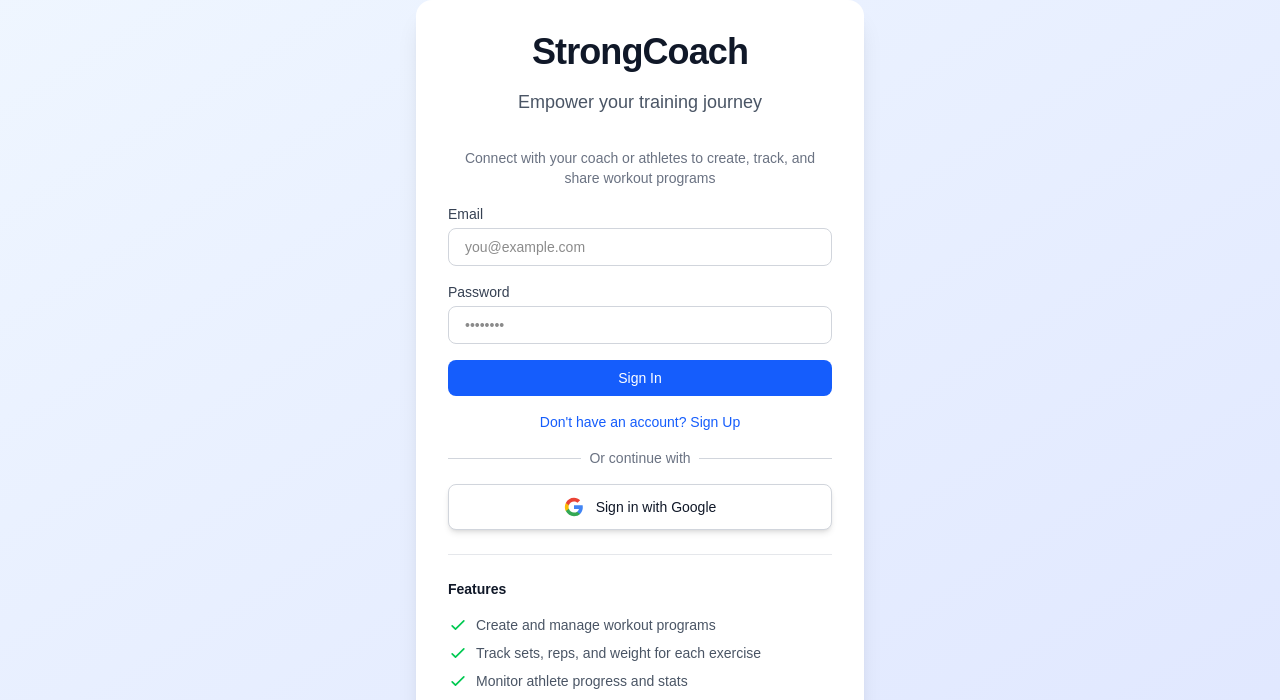
it: Authentication Flow › Authentication Error Handling › should handle network errors gracefully
Type "test@example.com" into the field labelled "Email" at coordinates (640, 247), box [448,228,832,266]
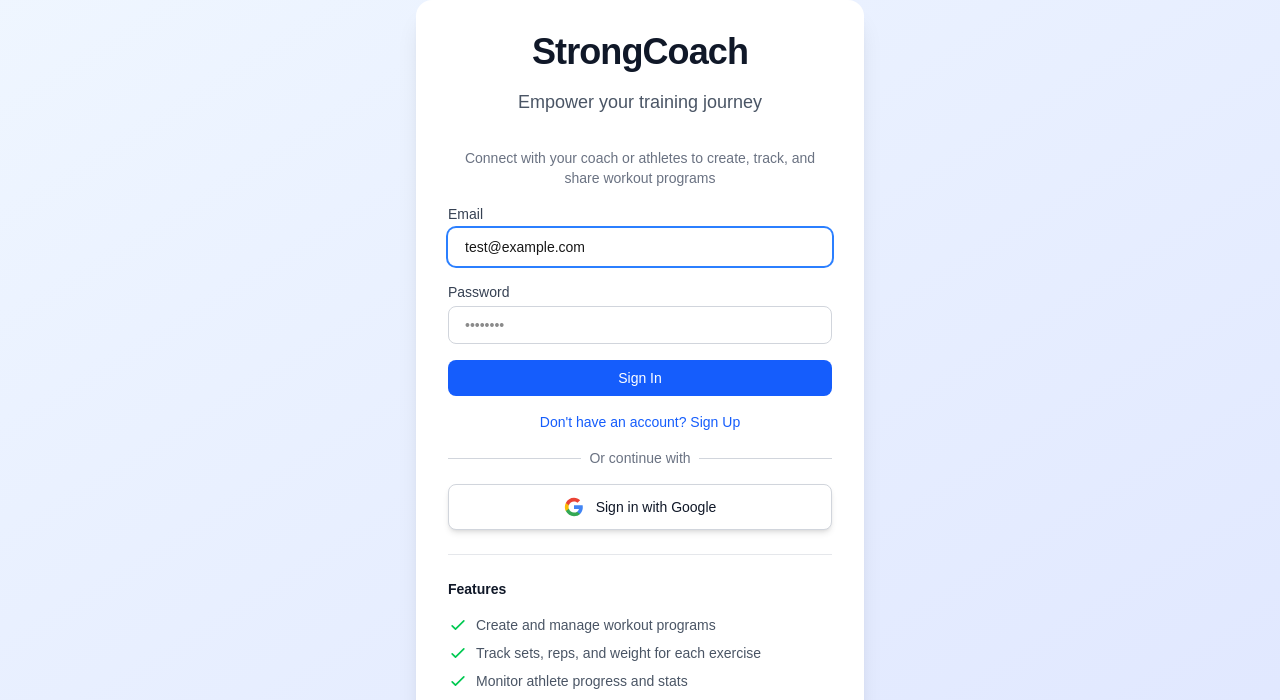
Type "validpassword" into the password field labelled "Password" at coordinates (640, 325), box [448,306,832,344]
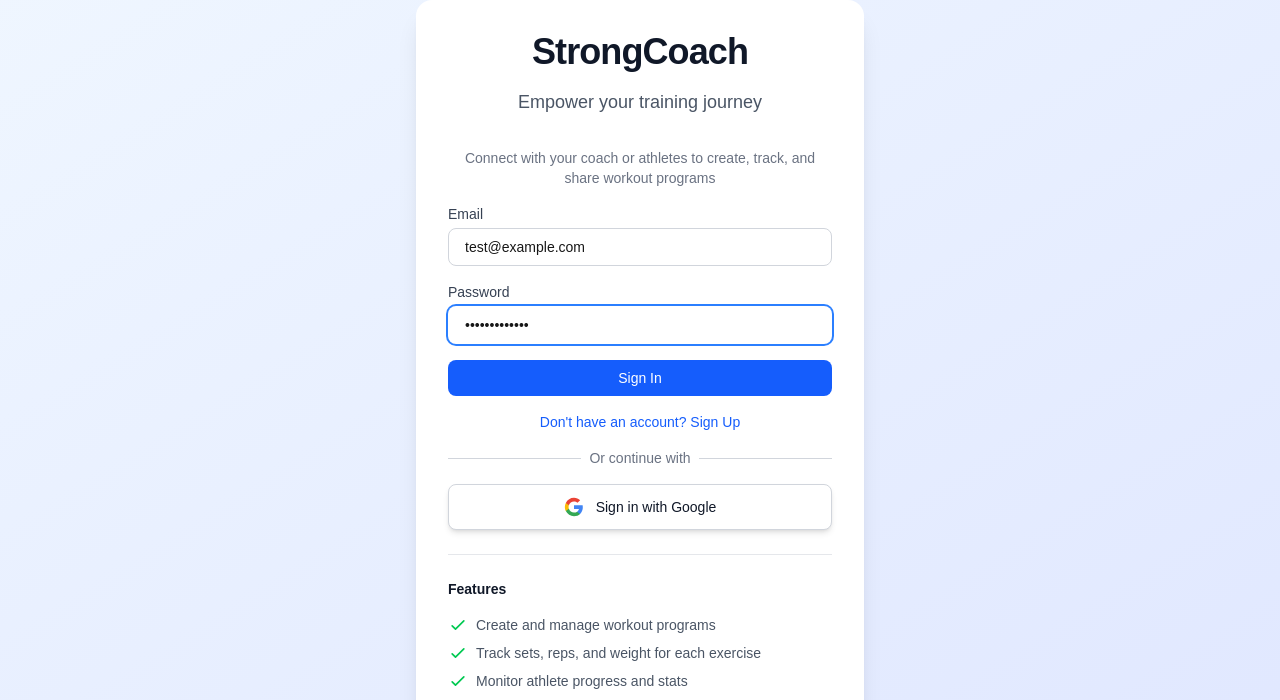
Click the button "Sign In" at coordinates (640, 378), box [448,360,832,396]
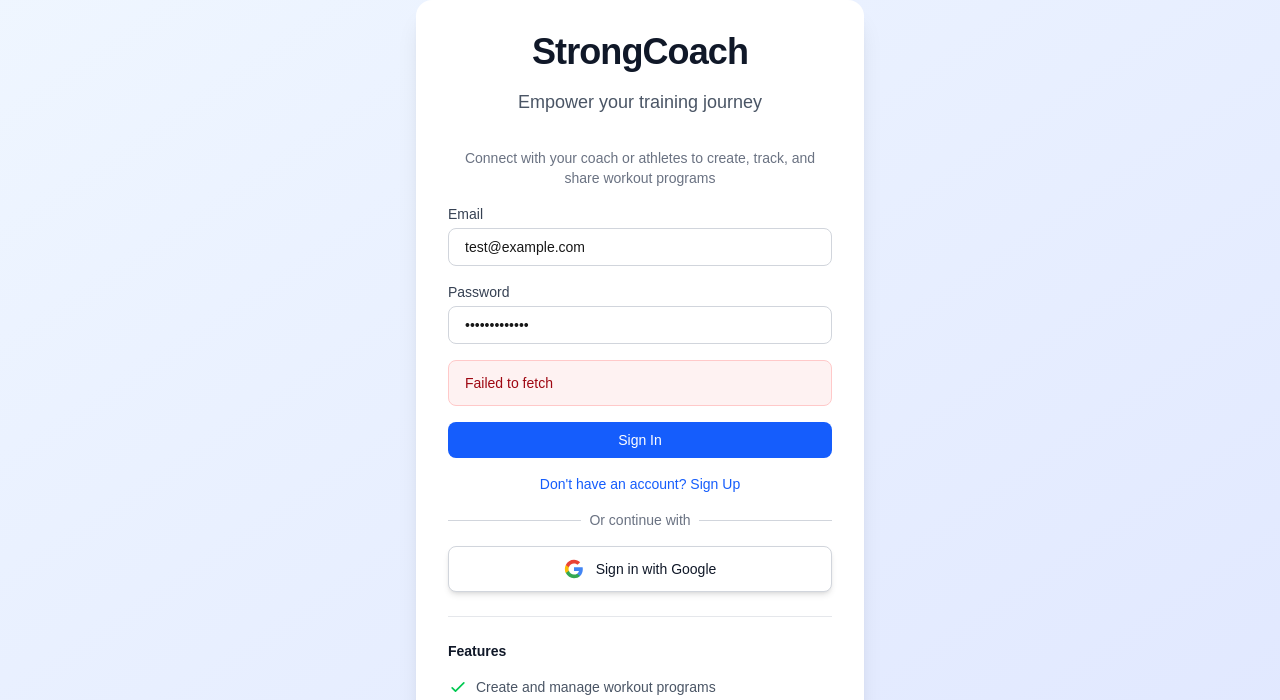
Expected: the text "Failed to fetch" is shown, [448,360,832,406]
